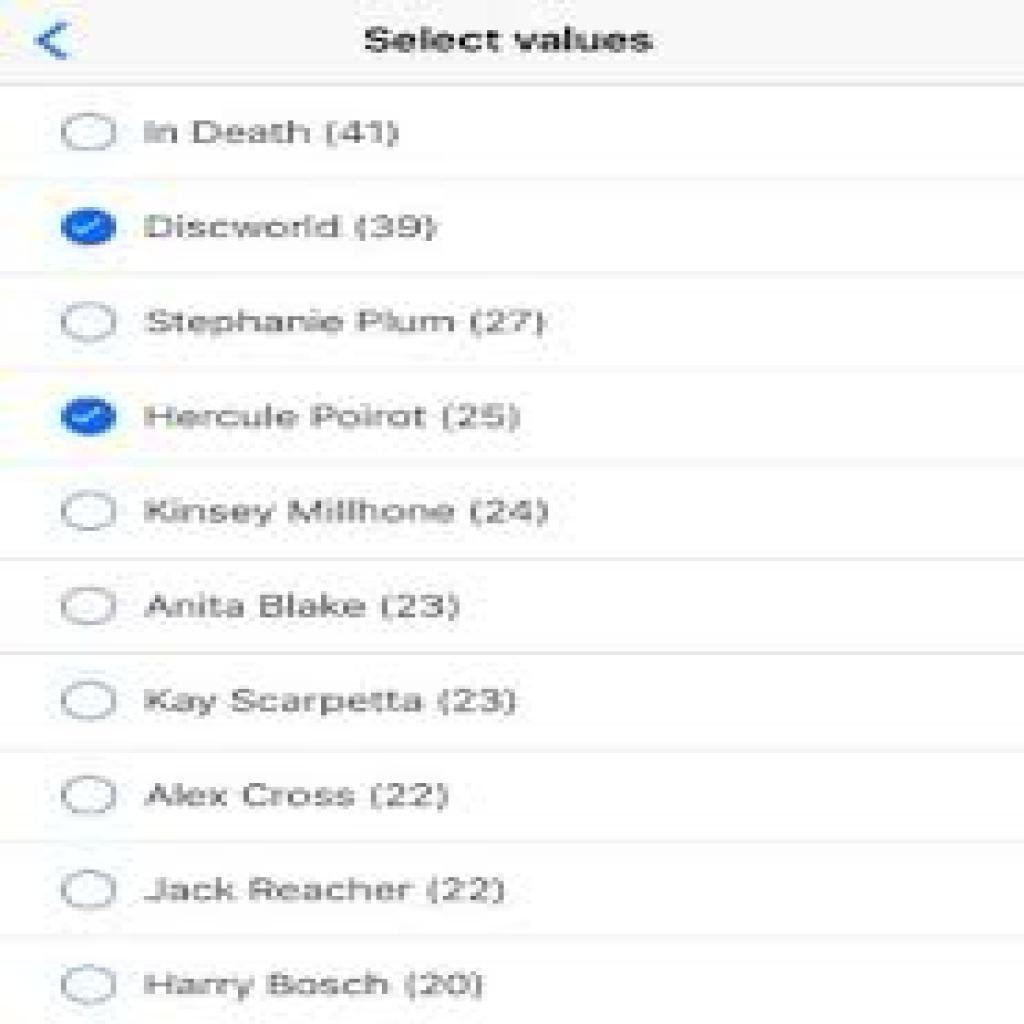label: (140, 493, 560, 539), (142, 306, 549, 352), (139, 682, 522, 726), (145, 872, 511, 915), (143, 965, 484, 1011), (146, 590, 471, 634), (143, 401, 524, 438), (144, 210, 447, 253), (146, 781, 453, 821), (139, 118, 413, 155)
radio: (58, 866, 120, 916), (59, 206, 122, 253), (56, 961, 121, 1006), (59, 113, 123, 158), (58, 680, 122, 725), (57, 396, 120, 441), (57, 302, 123, 342), (60, 776, 120, 820), (59, 493, 123, 533), (57, 588, 121, 627)
